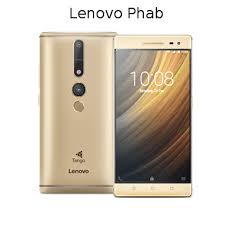lenovo: (110, 31, 193, 198), (36, 27, 113, 195)
